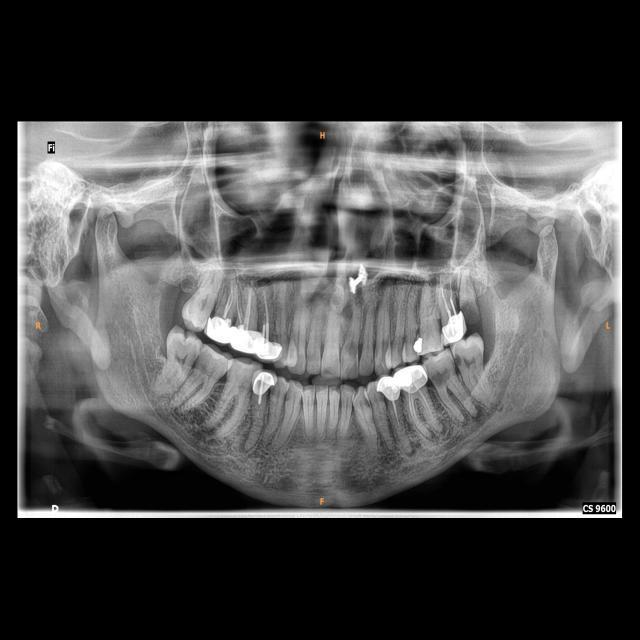dentin-curugu: (428, 366, 453, 388), (194, 352, 212, 374), (453, 352, 463, 368)
dolgu: (412, 332, 426, 356)
kanal-tedavisi: (438, 280, 459, 320), (407, 389, 432, 420), (257, 289, 274, 334), (238, 286, 253, 324), (222, 281, 238, 316), (389, 396, 402, 429)
kaplama: (255, 332, 284, 363), (396, 363, 428, 390), (229, 326, 259, 354), (205, 315, 232, 345), (250, 371, 275, 401), (374, 376, 402, 401), (443, 313, 465, 341)
